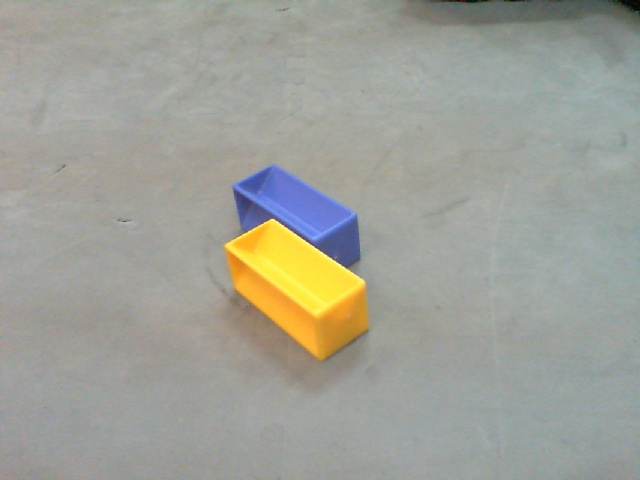BlueSample: (231, 161, 363, 270)
YellowSample: (220, 219, 374, 368)
